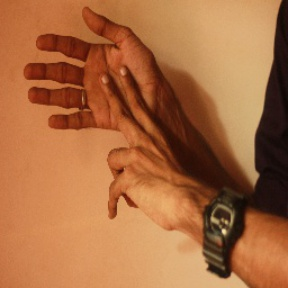N: (26, 5, 189, 202)
